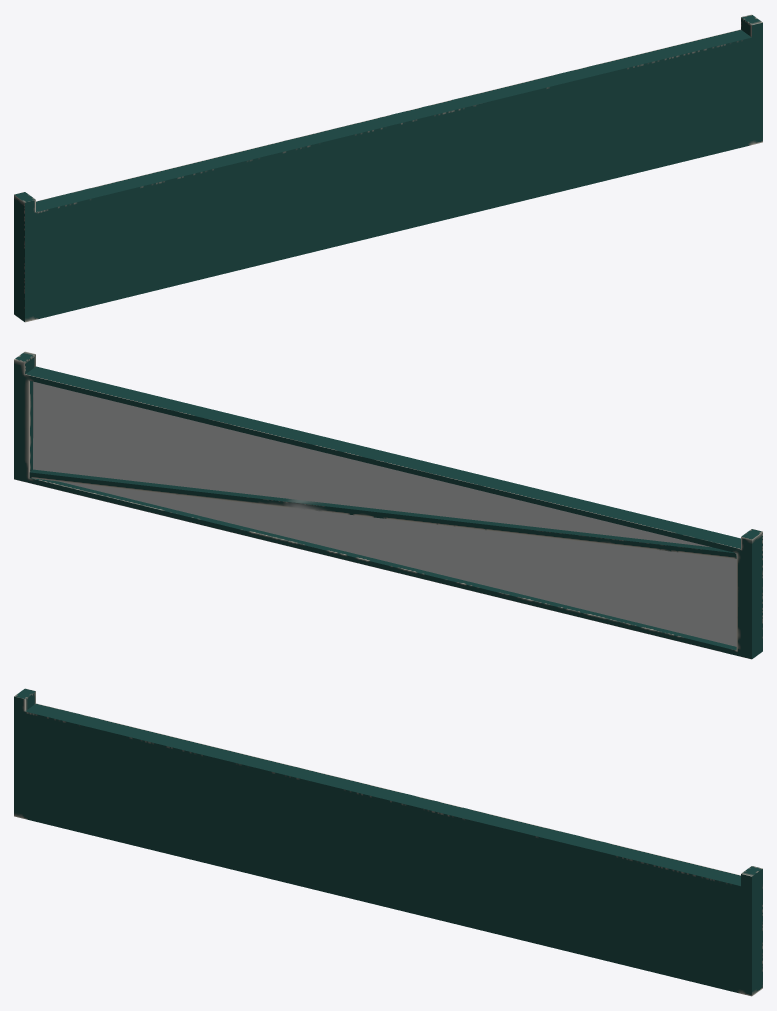
File: fence_type_1.fbx
3 renders of one model, top to bottom at view 1: azimuth 30°, elevation 25°; view 2: azimuth 150°, elevation 25°; view 3: azimuth 330°, elevation 25°, orthographic.
Parts seen in each view (by area): view 1: Cube.101; view 2: Cube.101; view 3: Cube.101.
Boxes of the visible parts, left/top/right/bottom form: Cube.101: left=14, top=14, right=762, bottom=322; Cube.101: left=14, top=351, right=762, bottom=659; Cube.101: left=14, top=688, right=762, bottom=996.
Bounding box in the file's own units: 4040 × 627 × 104.
Materials: 1 (1 with a texture image).
